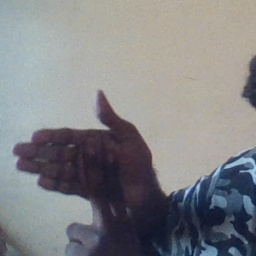N: (9, 91, 156, 233)
